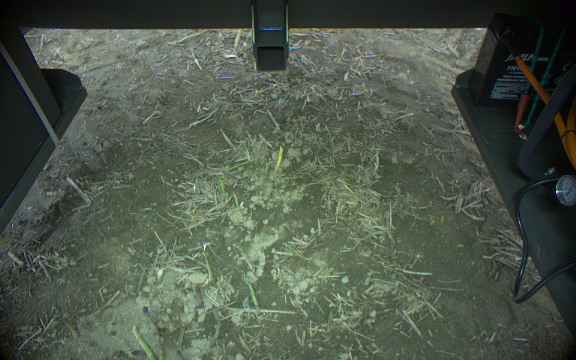aspa: (239, 270, 265, 318), (129, 325, 156, 360), (270, 144, 290, 173), (200, 252, 216, 284), (61, 316, 81, 339), (140, 304, 156, 331), (193, 285, 205, 309), (231, 28, 242, 54)
